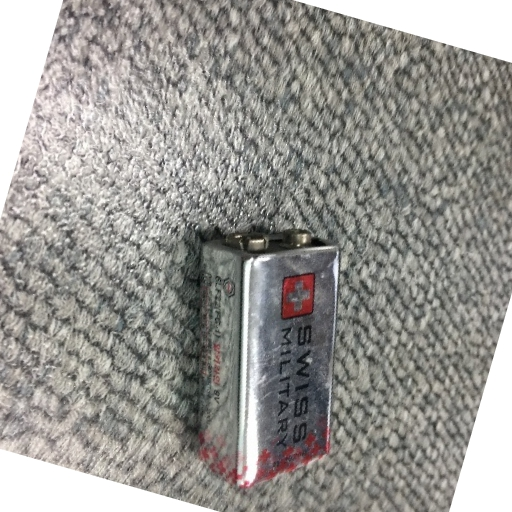Battery_3: (190, 220, 345, 490)
